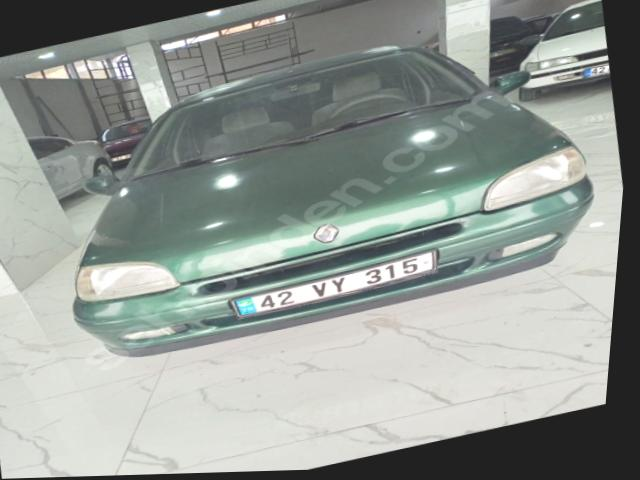plaka: (232, 250, 437, 316)
